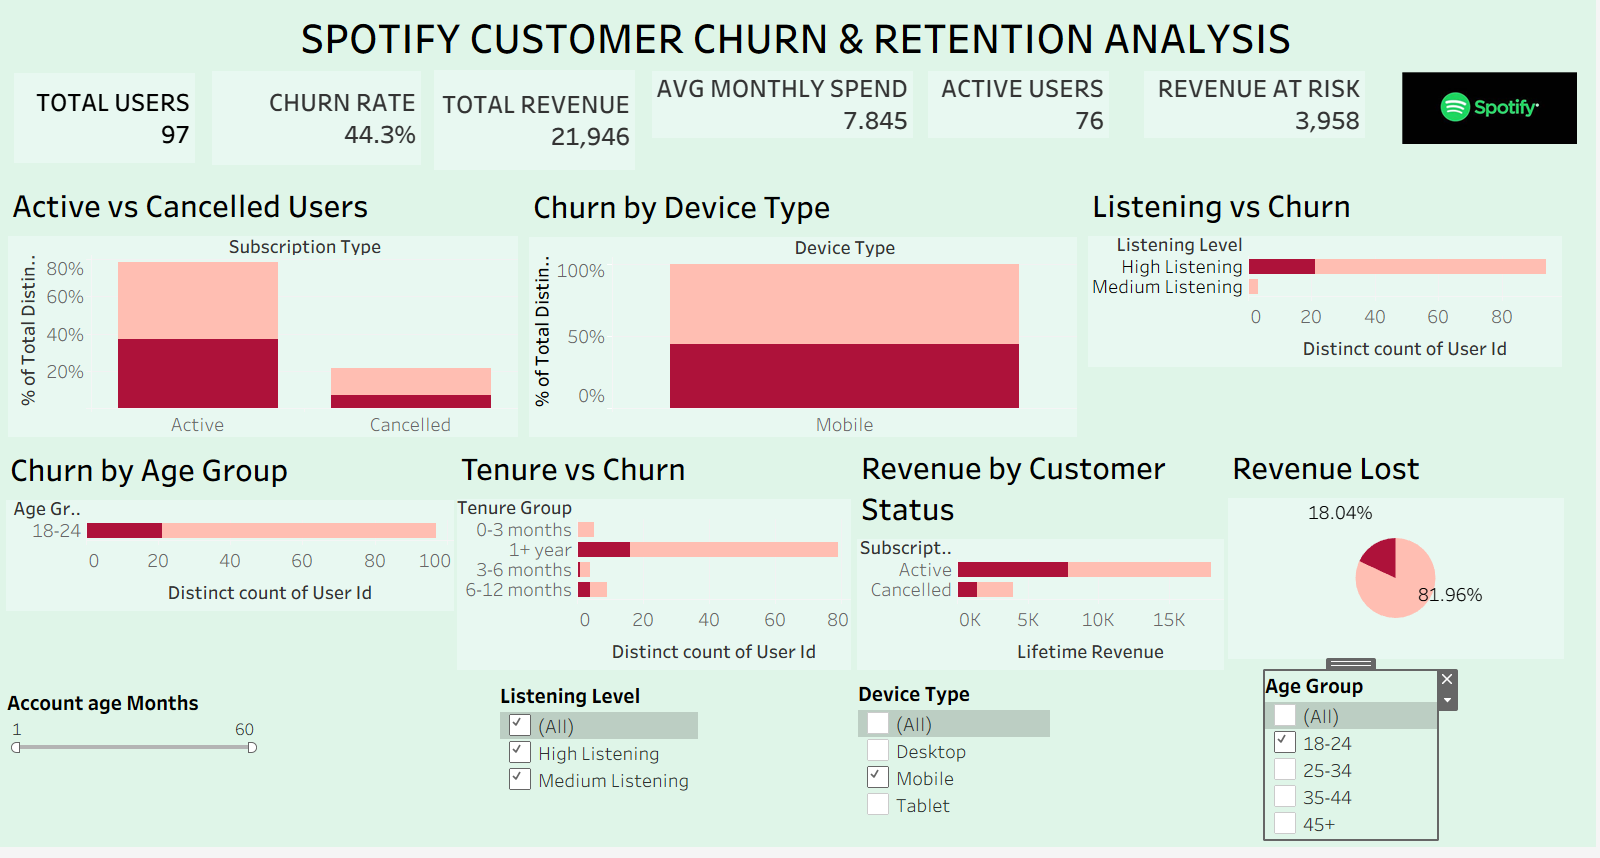

The page's visual inventory and layout, read from the dashboard file:
{"tool":"tableau","page":{"name":"Dashboard","canvas":[1600,850],"ordinal":0},"visuals":[{"type":"title","box":[8,8,1584,63]},{"type":"worksheet","title":"Total Revenue","mark":"Automatic","box":[438,72.7,205,101.1]},{"type":"worksheet","title":"Churn Rate","mark":"Automatic","box":[216,73.7,214,99.2]},{"type":"worksheet","title":"Average Monthly Speed","mark":"Automatic","box":[656,73.7,269,101.1]},{"type":"worksheet","title":"Active Users","mark":"Automatic","box":[932,73.7,209,99.2]},{"type":"worksheet","title":"Revenue at Risk","mark":"Automatic","box":[1148,73.7,254,100.1]},{"type":"image","param":"Image/SPOTIFY LOGO.jpg","box":[1406,75,175,103]},{"type":"worksheet","title":"Total Users","mark":"Automatic","box":[18,75.6,191,98.2]},{"type":"worksheet","title":"Active vs Cancelled Users","mark":"Automatic","rows":["User_Id"],"cols":["Subscription_Type"],"box":[12,183,510,257]},{"type":"worksheet","title":"Listening vs Churn","mark":"Automatic","rows":["Calculation_1942609380564997"],"cols":["User_Id"],"box":[1092,183.2,474,257.8]},{"type":"worksheet","title":"Churn by Device Type","mark":"Automatic","rows":["User_Id"],"cols":["Device_Type"],"box":[533,184,548,256]},{"type":"worksheet","title":"Revenue by Customer Status","mark":"Automatic","rows":["Subscription_Type"],"cols":["Lifetime_Revenue"],"box":[861,445,367,232]},{"type":"worksheet","title":"Revenue Lost","mark":"Pie","box":[1232,445,348,222]},{"type":"worksheet","title":"Tenure vs Churn","mark":"Automatic","rows":["Calculation_1942609376972803"],"cols":["User_Id"],"box":[461,446,394,232]},{"type":"worksheet","title":"Churn by Age Group","mark":"Automatic","rows":["Calculation_1942609376284674"],"cols":["User_Id"],"box":[10,447,448,232]},{"type":"filter","title":"Churn by Age Group","param":"[federated.1szcz0v1wbt9d71cnbg9o0p5esmu].[none:Calculation_1942609376284674:nk]","box":[1269,674,172,168]},{"type":"filter","title":"Churn by Device Type","param":"[federated.1szcz0v1wbt9d71cnbg9o0p5esmu].[none:Device_Type:nk]","box":[862,682,192,160]},{"type":"filter","title":"Listening vs Churn","param":"[federated.1szcz0v1wbt9d71cnbg9o0p5esmu].[none:Calculation_1942609380564997:nk]","box":[504,684,198,155]},{"type":"filter","title":"Tenure vs Churn","param":"[federated.1szcz0v1wbt9d71cnbg9o0p5esmu].[none:Account_age_Months:qk]","box":[11,691,254,118]}]}

Visuals, with their boxes in screenshot pixels (x1, y1, x2, y2), scaled from the page's 1600x850 canvas onto the 1600x858 screenshot:
title: locate(8, 8, 1592, 72)
"Total Revenue" worksheet: locate(438, 73, 643, 175)
"Churn Rate" worksheet: locate(216, 74, 430, 175)
"Average Monthly Speed" worksheet: locate(656, 74, 925, 176)
"Active Users" worksheet: locate(932, 74, 1141, 175)
"Revenue at Risk" worksheet: locate(1148, 74, 1402, 175)
image: locate(1406, 76, 1581, 180)
"Total Users" worksheet: locate(18, 76, 209, 175)
"Active vs Cancelled Users" worksheet: locate(12, 185, 522, 444)
"Listening vs Churn" worksheet: locate(1092, 185, 1566, 445)
"Churn by Device Type" worksheet: locate(533, 186, 1081, 444)
"Revenue by Customer Status" worksheet: locate(861, 449, 1228, 683)
"Revenue Lost" worksheet (Pie marks): locate(1232, 449, 1580, 673)
"Tenure vs Churn" worksheet: locate(461, 450, 855, 684)
"Churn by Age Group" worksheet: locate(10, 451, 458, 685)
"Churn by Age Group" filter: locate(1269, 680, 1441, 850)
"Churn by Device Type" filter: locate(862, 688, 1054, 850)
"Listening vs Churn" filter: locate(504, 690, 702, 847)
"Tenure vs Churn" filter: locate(11, 698, 265, 817)
